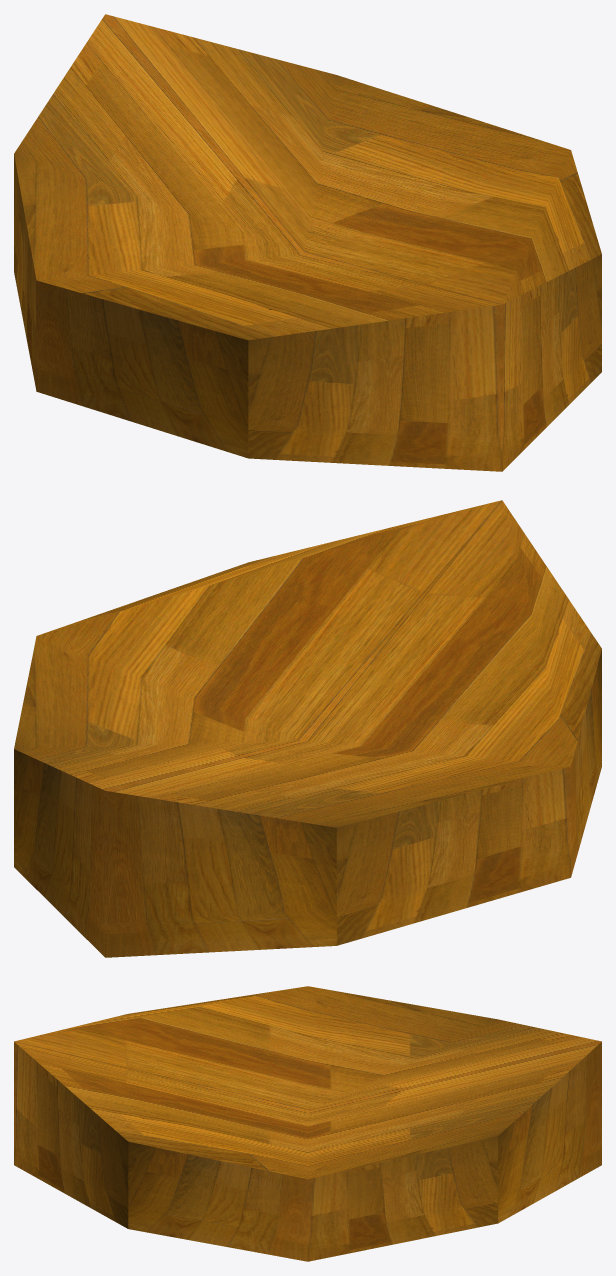
File: boat_fake.fbx
The picture shows the model from 3 angles, top to bottom: view 1: azimuth 30°, elevation 25°; view 2: azimuth 150°, elevation 25°; view 3: azimuth 270°, elevation 25°; orthographic projection. The views are drawn at different scales.
Visible parts, largest first — view 1: Box001; view 2: Box001; view 3: Box001.
Boxes of the visible parts, bbox=[...] form: Box001: bbox=[14, 14, 601, 471]; Box001: bbox=[14, 500, 601, 957]; Box001: bbox=[14, 986, 601, 1261].
Size of the model in its own units: 38.87 by 11.61 by 50.
